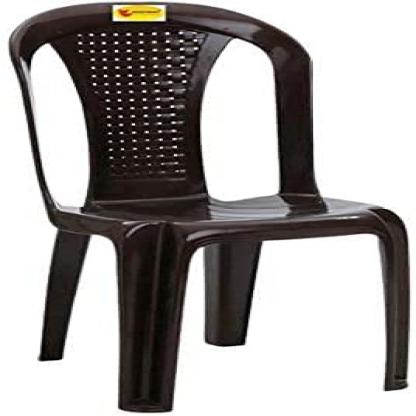chair: (8, 4, 414, 415)
